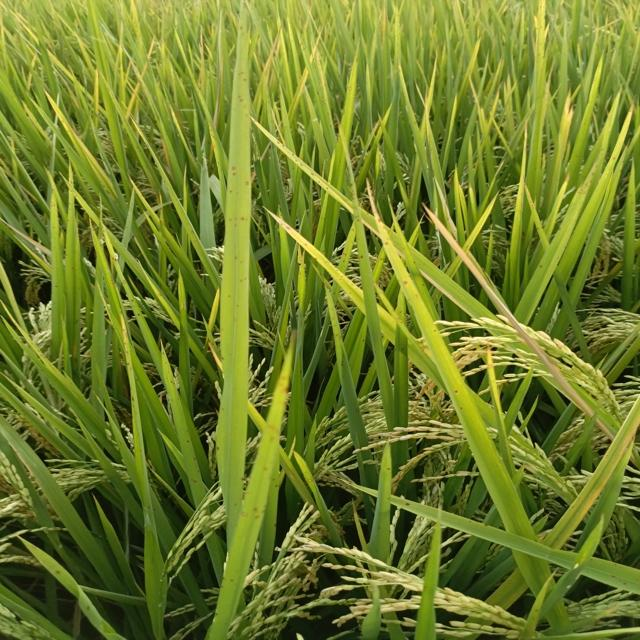insects: (221, 37, 261, 395), (241, 370, 295, 550), (369, 196, 432, 316), (344, 172, 376, 276), (374, 451, 399, 572), (172, 410, 205, 499), (45, 198, 68, 323), (114, 310, 139, 420), (271, 208, 316, 257), (572, 157, 604, 201), (445, 382, 471, 428), (46, 561, 70, 586), (76, 600, 106, 618), (141, 499, 165, 518), (186, 225, 200, 243), (536, 255, 550, 272)
